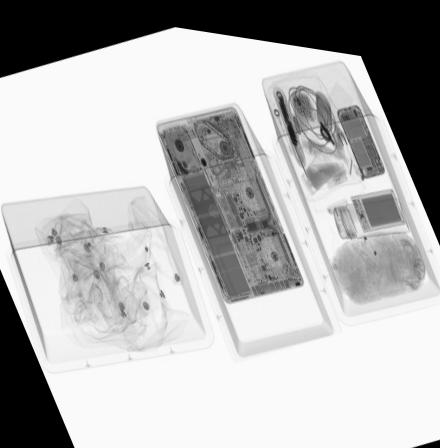Powerbank: (348, 174, 406, 222)
